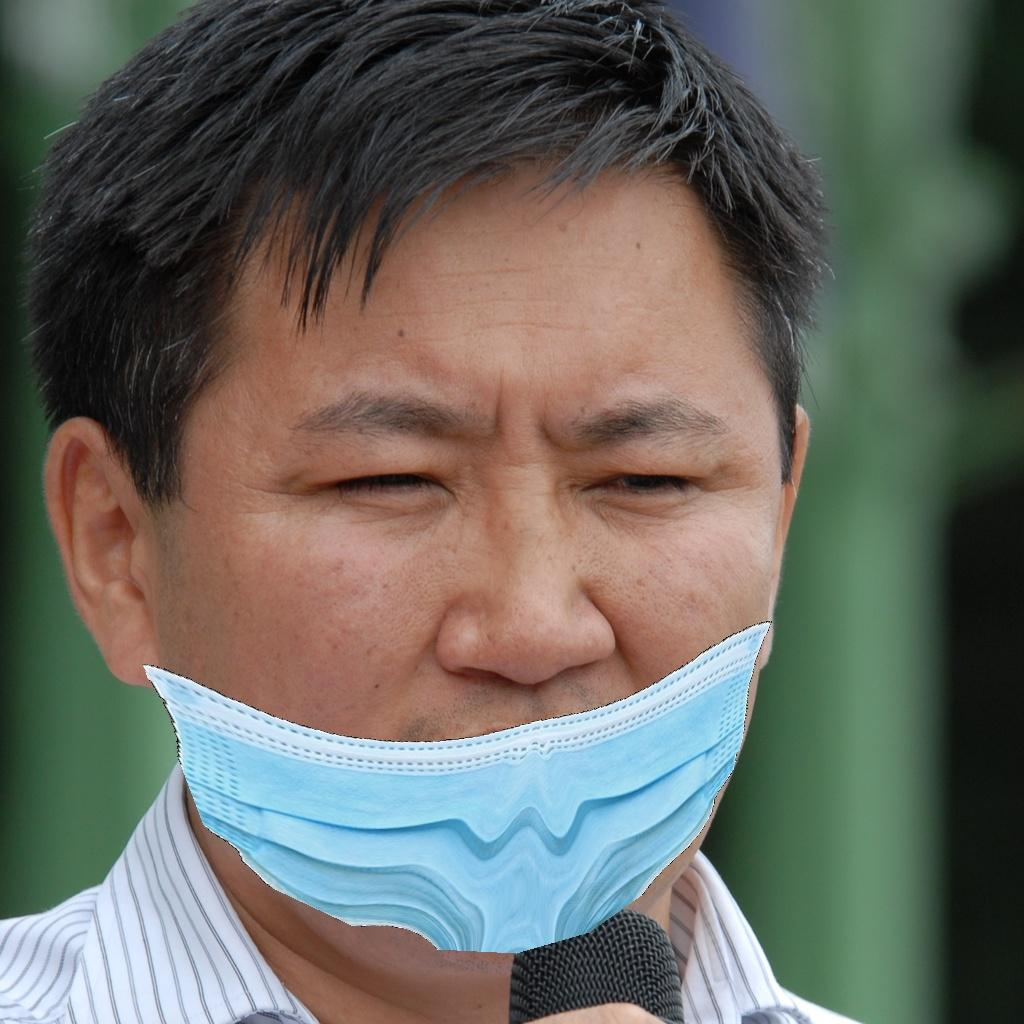Máscara Incorreta: (167, 287, 772, 921)
